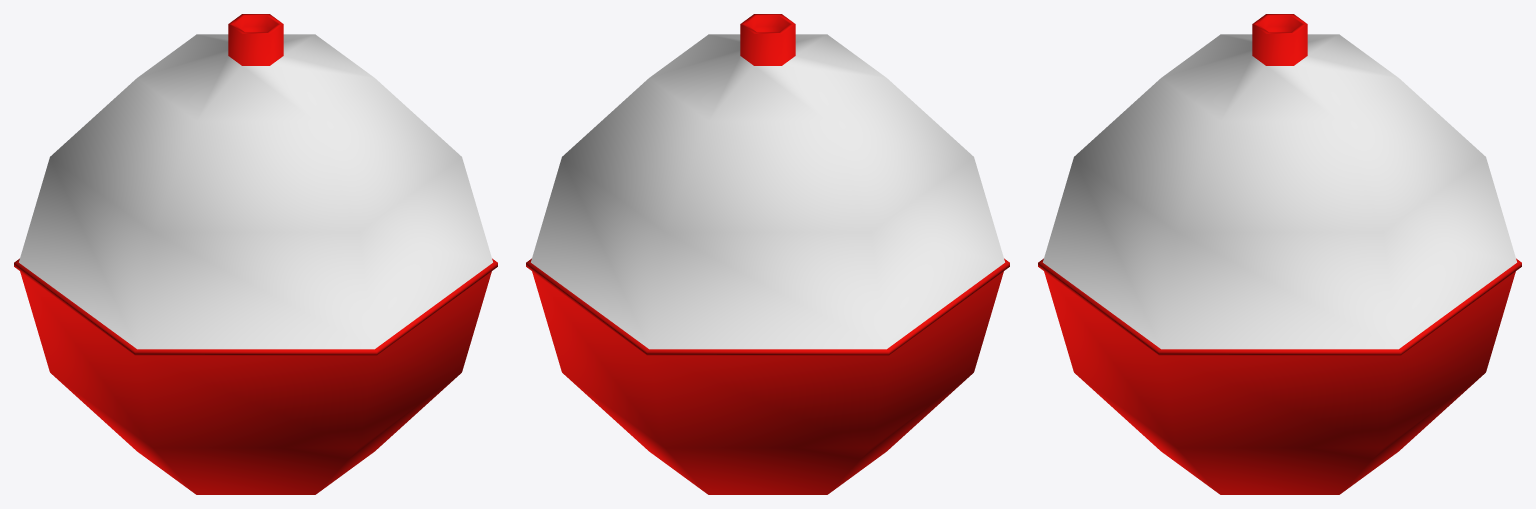
File: bobber.glb
The picture shows the model from 3 angles, left to right: view 1: azimuth 30°, elevation 25°; view 2: azimuth 150°, elevation 25°; view 3: azimuth 270°, elevation 25°; orthographic projection.
Parts seen in each view (by area): view 1: bobber; view 2: bobber; view 3: bobber.
Part boxes in pixels (left/top/right/bottom): bobber: left=14, top=14, right=497, bottom=494; bobber: left=526, top=14, right=1009, bottom=494; bobber: left=1038, top=14, right=1521, bottom=494.
Size of the model in its own units: 1.76 by 2.12 by 2.03.
